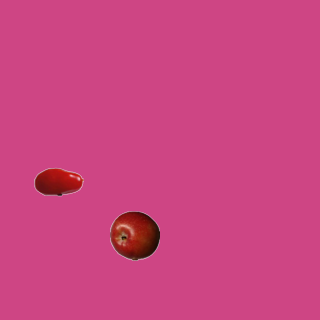Apple Braeburn: (109, 210, 159, 260)
Tomato 2: (33, 156, 83, 206)
